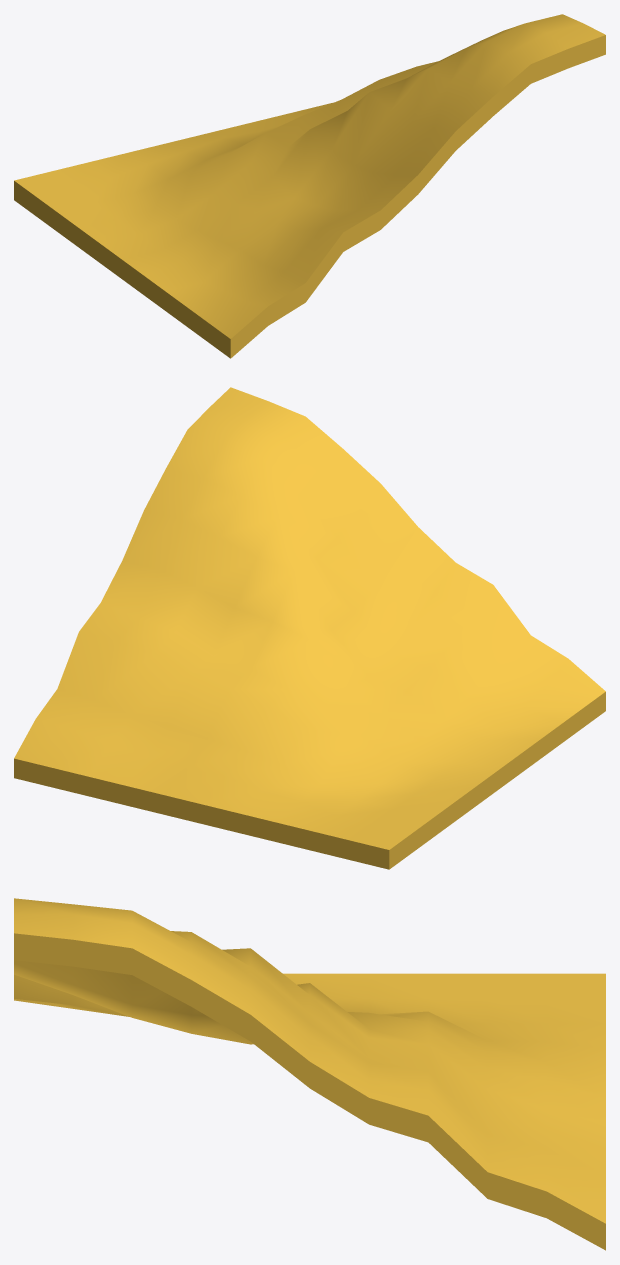
The model's file is Steil - Unten - Ecke b - b.fbx.
The picture shows the model from 3 angles, top to bottom: view 1: azimuth 30°, elevation 25°; view 2: azimuth 150°, elevation 25°; view 3: azimuth 270°, elevation 25°; orthographic projection. The views are drawn at different scales.
Parts seen in each view (by area): view 1: Steil - Unten - Ecke b - b; view 2: Steil - Unten - Ecke b - b; view 3: Steil - Unten - Ecke b - b.
Part boxes in pixels (box(x1,y1,x2,y2)): Steil - Unten - Ecke b - b: box(14, 14, 605, 358); Steil - Unten - Ecke b - b: box(14, 387, 605, 869); Steil - Unten - Ecke b - b: box(14, 898, 605, 1250).
Bounding box in the file's own units: 394 × 233 × 394.
